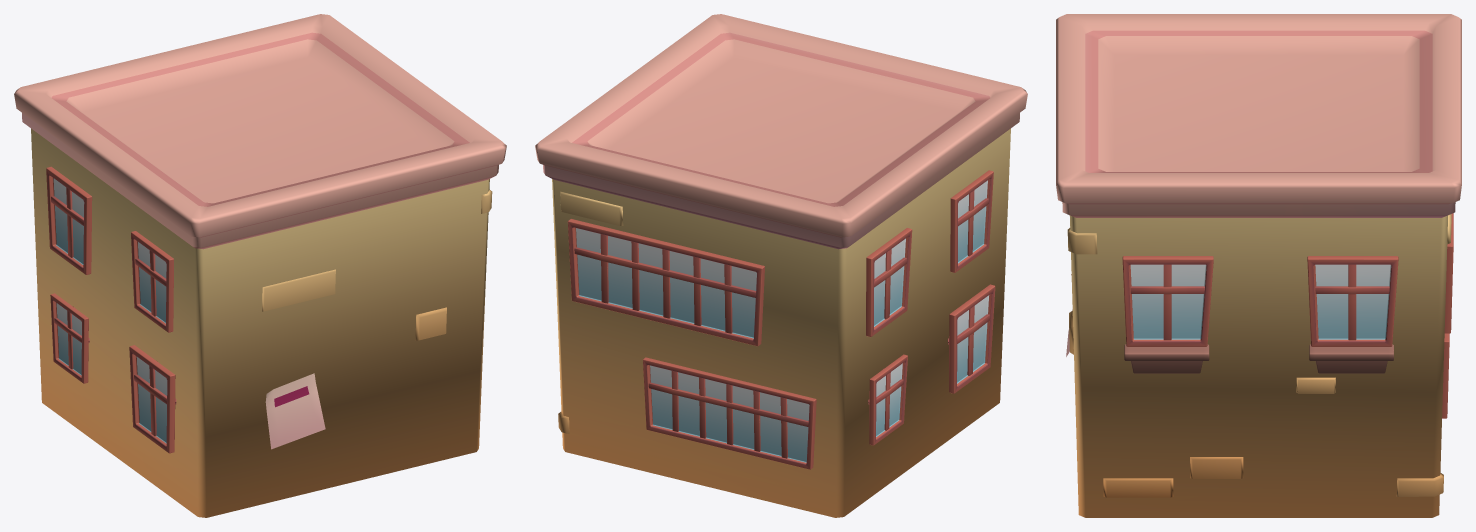
Rendered from SM_House_Yellow.fbx.
3 views of the same model, side by side, from view 1: azimuth 30°, elevation 25°; view 2: azimuth 150°, elevation 25°; view 3: azimuth 270°, elevation 25° (orthographic). The views are drawn at different scales.
Parts seen in each view (by area): view 1: SM_House_Yellow; view 2: SM_House_Yellow; view 3: SM_House_Yellow.
Part boxes in pixels (left/top/right/bottom): SM_House_Yellow: left=14, top=14, right=506, bottom=517; SM_House_Yellow: left=535, top=14, right=1027, bottom=517; SM_House_Yellow: left=1056, top=14, right=1461, bottom=517.
Bounding box in the file's own units: 1621 × 1499 × 1605.
